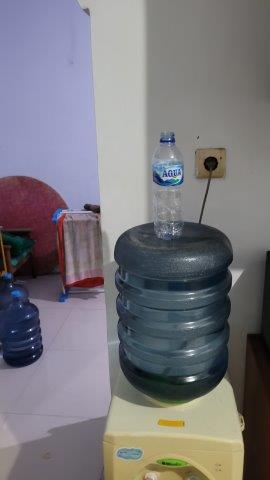botolplastik: (151, 132, 183, 240)
